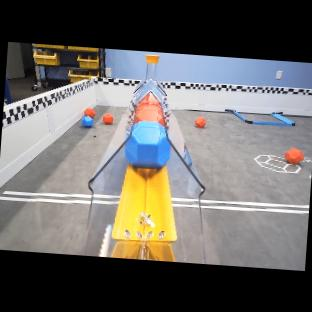V5_BLUE: (124, 120, 170, 168), (81, 115, 93, 127)
V5_RED: (134, 93, 163, 125), (284, 148, 303, 163), (102, 113, 113, 124), (81, 116, 93, 126), (83, 108, 95, 118), (195, 117, 205, 127)
blueingoal: (124, 120, 170, 168)
redingoal: (134, 93, 163, 126)
